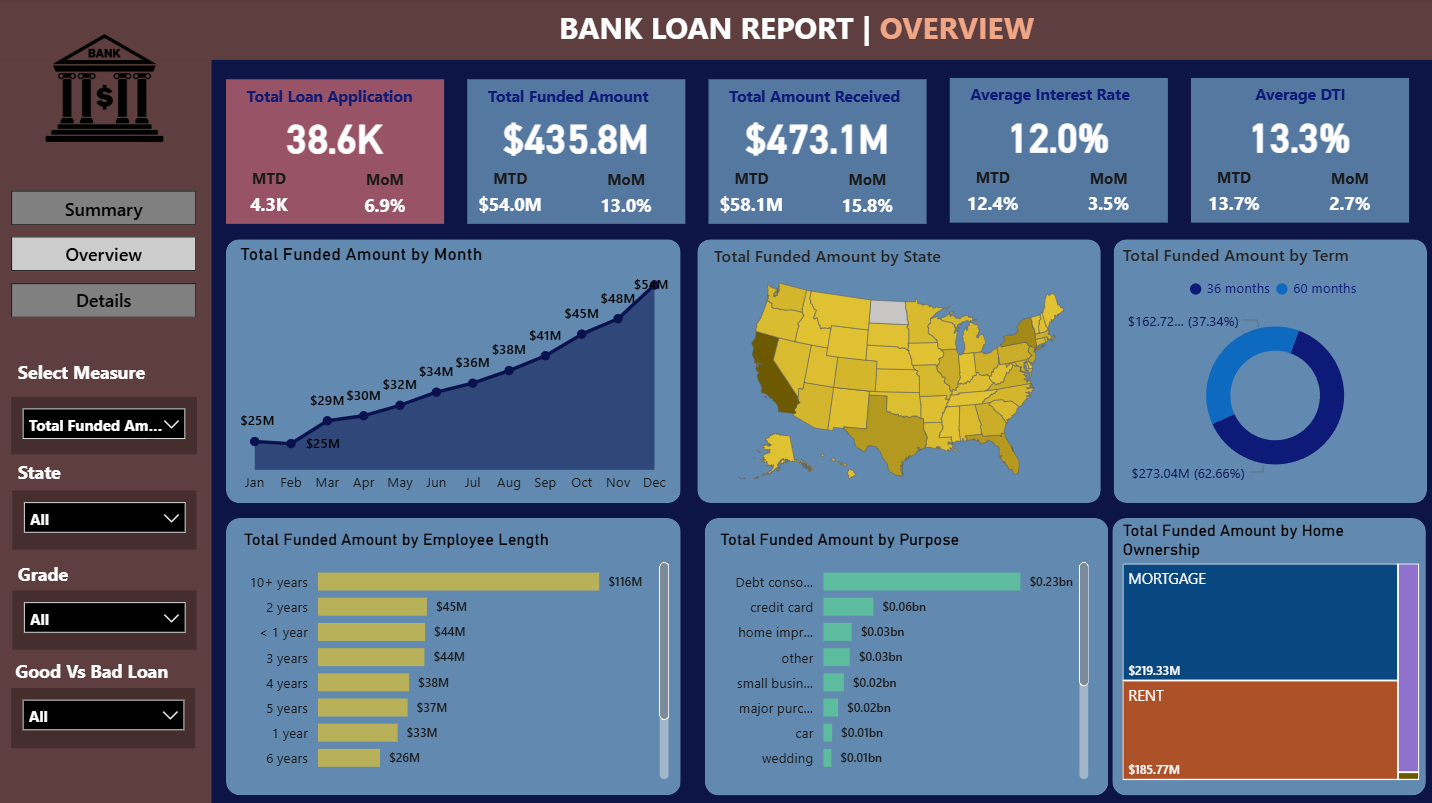

This screenshot's page, from the dashboard's own definition file:
{"tool":"powerbi","page":{"name":"Overview","canvas":[1280,720],"ordinal":1},"visuals":[{"type":"shape","box":[0,0,1280,55.1],"z":0},{"type":"shape","box":[0,54.5,192,665.7],"z":1000},{"type":"textbox","box":[496.5,3.3,436.4,52.3],"z":2000},{"type":"shape","box":[849.7,70.7,194.2,129.1],"z":3000,"group":"g4"},{"type":"shape","box":[1064.3,70.7,194.2,129.1],"z":3000,"group":"g5"},{"type":"group","id":"g1","title":"Group 1","box":[204.9,71.9,194.2,130.6],"z":3000},{"type":"shape","box":[204.9,71.9,194.2,129.1],"z":3000,"group":"g1"},{"type":"shape","box":[419.9,71.9,194.2,129.1],"z":3000,"group":"g2"},{"type":"shape","box":[634.8,71.9,194.2,129.1],"z":3000,"group":"g3"},{"type":"card","fields":{"Values":["bank_loan_db bank_loan.Average Interest Rate"]},"box":[875.8,88.5,142.1,65.1],"z":4000,"group":"g4"},{"type":"card","fields":{"Values":["bank_loan_db bank_loan.Average DTI"]},"box":[1090.4,88.5,142.1,65.1],"z":4000,"group":"g5"},{"type":"card","fields":{"Values":["bank_loan_db bank_loan.Total Loan Applications"]},"box":[231,89.7,142.1,65.1],"z":4000,"group":"g1"},{"type":"card","fields":{"Values":["bank_loan_db bank_loan.Total Funded Amount"]},"box":[446,89.7,142.1,65.1],"z":4000,"group":"g2"},{"type":"card","fields":{"Values":["bank_loan_db bank_loan.Total Amount Received"]},"box":[660.9,89.7,142.1,65.1],"z":4000,"group":"g3"},{"type":"shape","box":[204.9,214.5,405,235],"z":4000},{"type":"textbox","box":[862.7,70.7,168.2,35.5],"z":5000,"group":"g4"},{"type":"textbox","box":[1077.3,70.7,168.2,35.5],"z":5000,"group":"g5"},{"type":"textbox","box":[217.9,71.9,168.2,35.5],"z":5000,"group":"g1"},{"type":"group","id":"g2","title":"Group 1","box":[419.9,71.9,194.2,130.6],"z":5000},{"type":"textbox","box":[432.9,71.9,168.2,35.5],"z":5000,"group":"g2"},{"type":"textbox","box":[647.8,71.9,168.2,35.5],"z":5000,"group":"g3"},{"type":"group","id":"g3","title":"Group 1","box":[634.8,71.9,194.2,130.6],"z":6000},{"type":"card","title":"MoM","fields":{"Values":["bank_loan_db bank_loan.MoM Avg Int Rate"]},"box":[957.6,150.6,67.1,50.3],"z":6000,"group":"g4"},{"type":"card","title":"MoM","fields":{"Values":["bank_loan_db bank_loan.MoM Avg DTI"]},"box":[1172.2,150.6,67.1,50.3],"z":6000,"group":"g5"},{"type":"card","title":"MoM","fields":{"Values":["bank_loan_db bank_loan.MoM Loan Application"]},"box":[312.8,151.8,67.1,50.3],"z":6000,"group":"g1"},{"type":"card","title":"MoM","fields":{"Values":["bank_loan_db bank_loan.MoM Total Funded Amount"]},"box":[527.8,151.8,67.1,50.3],"z":6000,"group":"g2"},{"type":"card","title":"MoM","fields":{"Values":["bank_loan_db bank_loan.MoM Total Amount Received"]},"box":[742.7,151.8,67.1,50.3],"z":6000,"group":"g3"},{"type":"group","id":"g4","title":"Group 1","box":[849.7,70.7,193.8,130],"z":7000},{"type":"card","title":"MTD","fields":{"Values":["bank_loan_db bank_loan.MTD Avg Int Rate"]},"box":[849.8,149.4,76.7,51.5],"z":7000,"group":"g4"},{"type":"card","title":"MTD","fields":{"Values":["bank_loan_db bank_loan.MTD Avg DTI"]},"box":[1064.4,149.4,76.7,51.5],"z":7000,"group":"g5"},{"type":"card","title":"MTD","fields":{"Values":["bank_loan_db bank_loan.MTD Loan Applications"]},"box":[205,150.6,76.7,51.5],"z":7000,"group":"g1"},{"type":"card","title":"MTD","fields":{"Values":["bank_loan_db bank_loan.MTD Funded Amount"]},"box":[420,150.6,76.7,51.5],"z":7000,"group":"g2"},{"type":"card","title":"MTD","fields":{"Values":["bank_loan_db bank_loan.MTD Total Amount Received"]},"box":[634.9,150.6,76.7,51.5],"z":7000,"group":"g3"},{"type":"group","id":"g5","title":"Group 1","box":[1064.3,70.7,194.2,129.4],"z":8000},{"type":"slicer","fields":{"Values":["bank_loan_db bank_loan.address_state"]},"box":[14.4,438.7,164.2,52.7],"z":9000},{"type":"textbox","box":[14.4,406.3,59.9,36],"z":10000},{"type":"slicer","fields":{"Values":["bank_loan_db bank_loan.grade"]},"box":[14.4,527.3,164.2,52.7],"z":11000},{"type":"textbox","box":[14.4,496.2,58.7,36],"z":12000},{"type":"slicer","fields":{"Values":["bank_loan_db bank_loan.Good Vs Bad Loan"]},"box":[13.2,614.8,164.2,53.9],"z":13000},{"type":"textbox","box":[12.2,583.3,165.9,43.4],"z":14000},{"type":"areaChart","fields":{"Y":["bank_loan_db bank_loan.Total Funded Amount"],"Category":["Date table.Month"]},"box":[212.1,219.3,391.9,230.1],"z":15000},{"type":"slicer","fields":{"Values":["Select Measures.Select Measures"]},"box":[13.2,355.2,165.4,51.5],"z":16000},{"type":"textbox","box":[14.4,317.6,146,35.7],"z":17000},{"type":"shape","box":[624.5,214.8,359.6,234.9],"z":18000},{"type":"shapeMap","fields":{"Value":["bank_loan_db bank_loan.Total Funded Amount"],"Category":["bank_loan_db bank_loan.address_state"]},"box":[634.5,219.3,344,223.7],"z":19000},{"type":"shape","box":[994.8,214.5,279.3,234.9],"z":20000},{"type":"donutChart","fields":{"Y":["bank_loan_db bank_loan.Total Funded Amount"],"Category":["bank_loan_db bank_loan.term"]},"box":[998.4,218.1,281.6,221.7],"z":21000},{"type":"shape","box":[204.9,462.6,405.1,246.9],"z":22000},{"type":"barChart","fields":{"Y":["bank_loan_db bank_loan.Total Funded Amount"],"Category":["bank_loan_db bank_loan.emp_length"]},"box":[215.7,473.4,388.3,227.7],"z":23000},{"type":"shape","box":[631.2,463.1,359.6,247.1],"z":23001},{"type":"barChart","fields":{"Category":["bank_loan_db bank_loan.purpose"],"Y":["bank_loan_db bank_loan.Total Funded Amount"]},"box":[640,473.4,338,227.7],"z":23002},{"type":"shape","box":[994.1,463.1,279.4,247.1],"z":23003},{"type":"treemap","fields":{"Group":["bank_loan_db bank_loan.home_ownership"],"Values":["bank_loan_db bank_loan.Total Funded Amount"]},"box":[998.5,465.3,273.8,236],"z":23004},{"type":"pageNavigator","box":[13.4,171.4,165.9,115.8],"z":23005},{"type":"image","box":[17.8,21.2,158.1,136.9],"z":23006}]}

Visuals, with their boxes in screenshot pixels (x1, y1, x2, y2), scaled from the page's 1280x720 canvas onto the 1432x803 screenshot:
shape: [0,0,1431,61]
shape: [0,61,215,802]
textbox: [555,4,1044,62]
shape: [951,79,1168,223]
shape: [1191,79,1408,223]
"Group 1" group: [229,80,446,226]
shape: [229,80,446,224]
shape: [470,80,687,224]
shape: [710,80,927,224]
card - bank_loan_db bank_loan.Average Interest Rate: [980,99,1139,171]
card - bank_loan_db bank_loan.Average DTI: [1220,99,1379,171]
card - bank_loan_db bank_loan.Total Loan Applications: [258,100,417,173]
card - bank_loan_db bank_loan.Total Funded Amount: [499,100,658,173]
card - bank_loan_db bank_loan.Total Amount Received: [739,100,898,173]
shape: [229,239,682,501]
textbox: [965,79,1153,118]
textbox: [1205,79,1393,118]
textbox: [244,80,432,120]
"Group 1" group: [470,80,687,226]
textbox: [484,80,672,120]
textbox: [725,80,913,120]
"Group 1" group: [710,80,927,226]
"MoM" card: [1071,168,1146,224]
"MoM" card: [1311,168,1386,224]
"MoM" card: [350,169,425,225]
"MoM" card: [590,169,666,225]
"MoM" card: [831,169,906,225]
"Group 1" group: [951,79,1167,224]
"MTD" card: [951,167,1037,224]
"MTD" card: [1191,167,1277,224]
"MTD" card: [229,168,315,225]
"MTD" card: [470,168,556,225]
"MTD" card: [710,168,796,225]
"Group 1" group: [1191,79,1408,223]
slicer - bank_loan_db bank_loan.address_state: [16,489,200,548]
textbox: [16,453,83,493]
slicer - bank_loan_db bank_loan.grade: [16,588,200,647]
textbox: [16,553,82,594]
slicer - bank_loan_db bank_loan.Good Vs Bad Loan: [15,686,198,746]
textbox: [14,651,199,699]
areaChart - bank_loan_db bank_loan.Total Funded Amount x Date table.Month: [237,245,676,501]
slicer - Select Measures.Select Measures: [15,396,200,454]
textbox: [16,354,179,394]
shape: [699,240,1101,502]
shapeMap - bank_loan_db bank_loan.Total Funded Amount x bank_loan_db bank_loan.address_state: [710,245,1095,494]
shape: [1113,239,1425,501]
donutChart - bank_loan_db bank_loan.Total Funded Amount x bank_loan_db bank_loan.term: [1117,243,1431,490]
shape: [229,516,682,791]
barChart - bank_loan_db bank_loan.Total Funded Amount x bank_loan_db bank_loan.emp_length: [241,528,676,782]
shape: [706,516,1108,792]
barChart - bank_loan_db bank_loan.purpose x bank_loan_db bank_loan.Total Funded Amount: [716,528,1094,782]
shape: [1112,516,1425,792]
treemap - bank_loan_db bank_loan.home_ownership x bank_loan_db bank_loan.Total Funded Amount: [1117,519,1423,782]
pageNavigator: [15,191,201,320]
image: [20,24,197,176]
